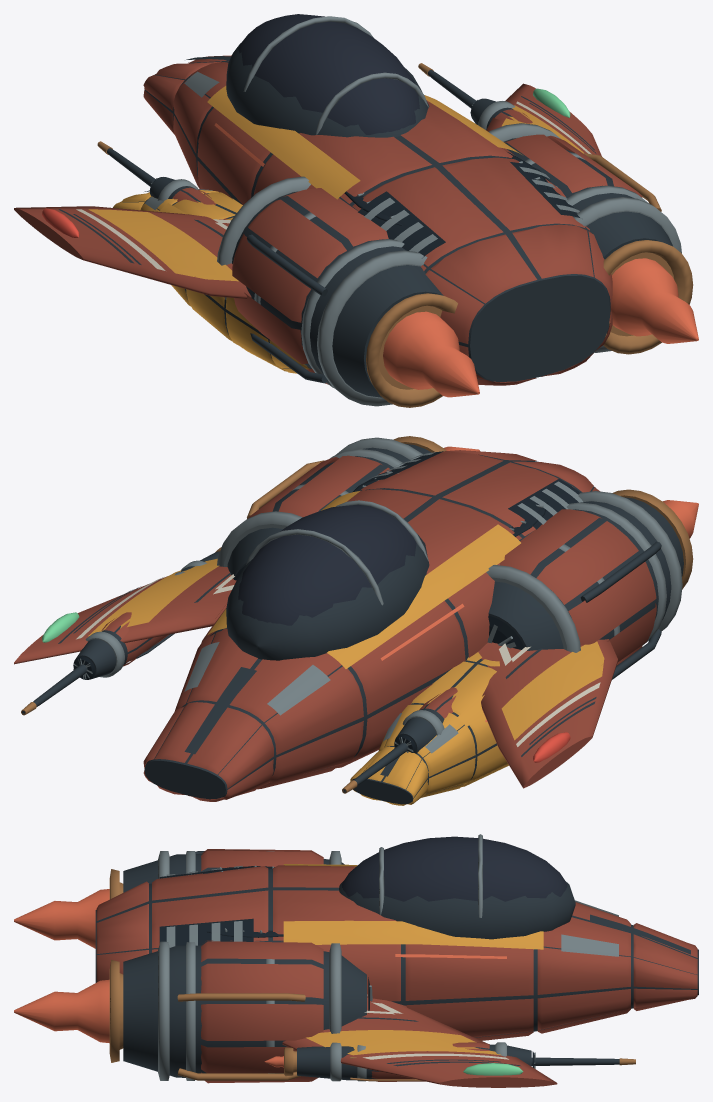
File: pirate.glb
The picture shows the model from 3 angles, top to bottom: view 1: azimuth 30°, elevation 25°; view 2: azimuth 150°, elevation 25°; view 3: azimuth 270°, elevation 25°; orthographic projection. The views are drawn at different scales.
Parts seen in each view (by area): view 1: pirate; view 2: pirate; view 3: pirate.
Boxes of the visible parts, x1,y1,x2,y2 form: pirate: [14, 14, 698, 407]; pirate: [14, 436, 698, 805]; pirate: [14, 834, 698, 1087].
Bounding box in the file's own units: 3.28 × 1.45 × 4.5.
